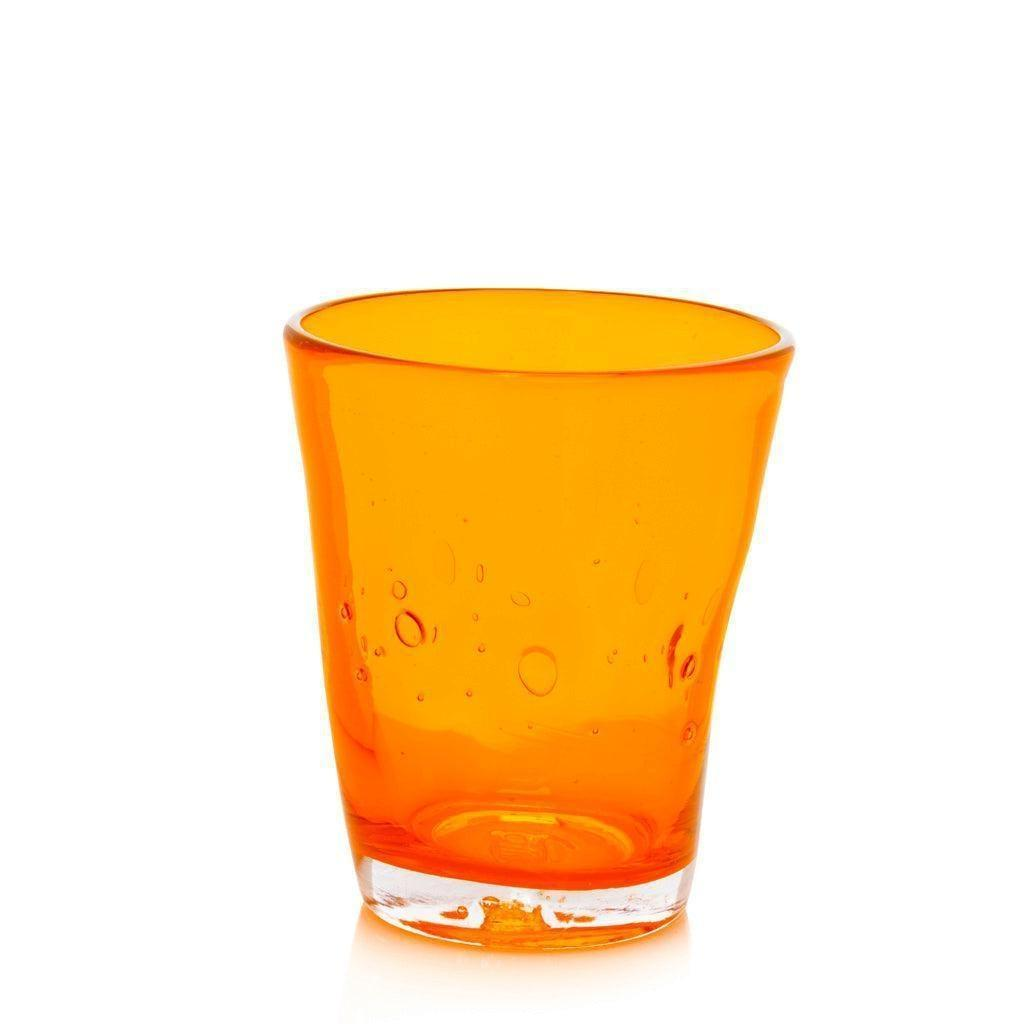glass-normal: (266, 281, 802, 959)
